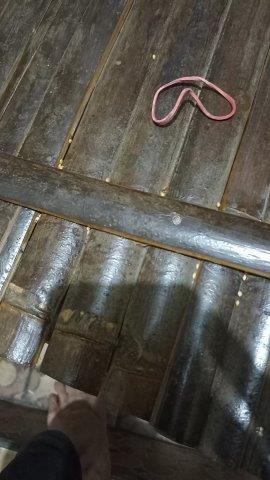karet: (151, 76, 236, 125)
